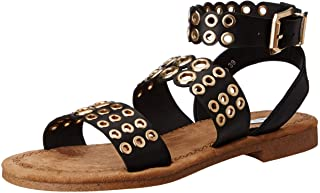shoes: (1, 1, 320, 191)
